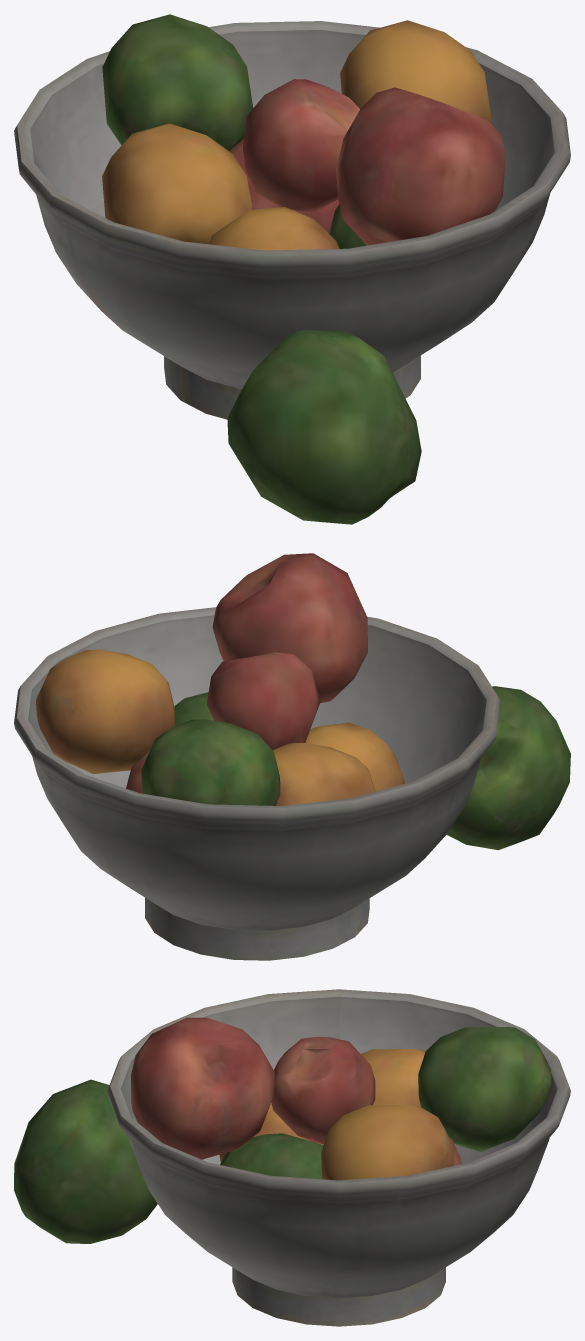
The model's file is fruit-bowl.glb.
3 views of the same model, one above another, from view 1: azimuth 30°, elevation 25°; view 2: azimuth 150°, elevation 25°; view 3: azimuth 270°, elevation 25° (orthographic). The views are drawn at different scales.
Visible parts, largest first — view 1: fruit-bowl; view 2: fruit-bowl; view 3: fruit-bowl.
Part boxes in pixels (bbox=[...]): fruit-bowl: bbox=[14, 14, 570, 524]; fruit-bowl: bbox=[14, 553, 570, 960]; fruit-bowl: bbox=[14, 989, 570, 1326].
Size of the model in its own units: 0.221 by 0.1452 by 0.2655.
Materials: 1 (1 with a texture image).
